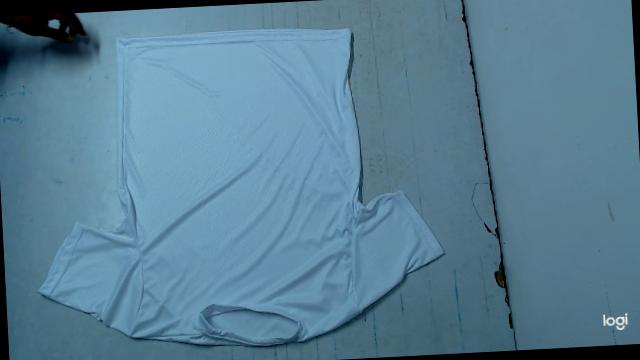new-garment: (38, 29, 443, 345)
